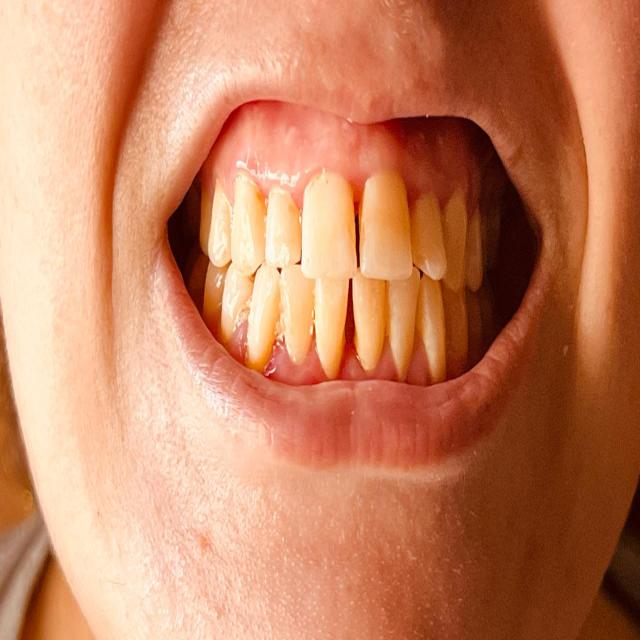tooth: (360, 188, 414, 274), (305, 185, 354, 267), (314, 273, 348, 361), (234, 180, 264, 266), (283, 272, 313, 355), (252, 271, 282, 352), (266, 194, 301, 260), (417, 284, 445, 366), (419, 189, 445, 273), (354, 285, 384, 354), (446, 287, 471, 363), (393, 280, 413, 359), (225, 269, 249, 328), (467, 214, 485, 287), (446, 206, 464, 278), (211, 193, 231, 255), (206, 264, 224, 316)
